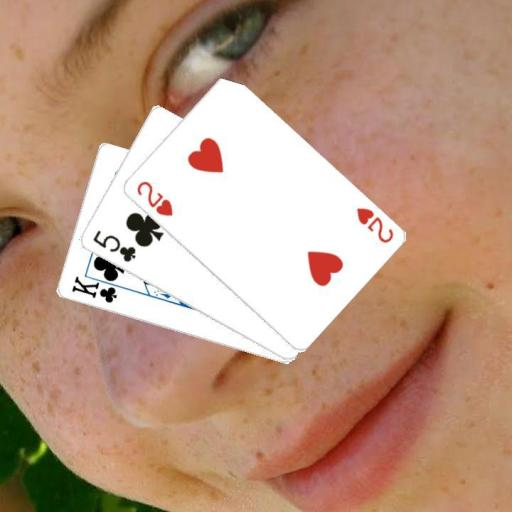2H: (132, 177, 174, 218), (353, 204, 395, 245)
5C: (89, 227, 137, 264)
KC: (68, 271, 126, 305)
